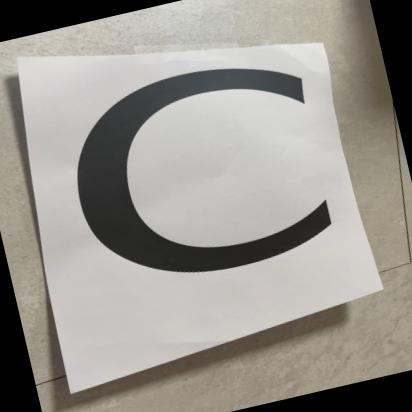seat: (27, 0, 381, 351)
